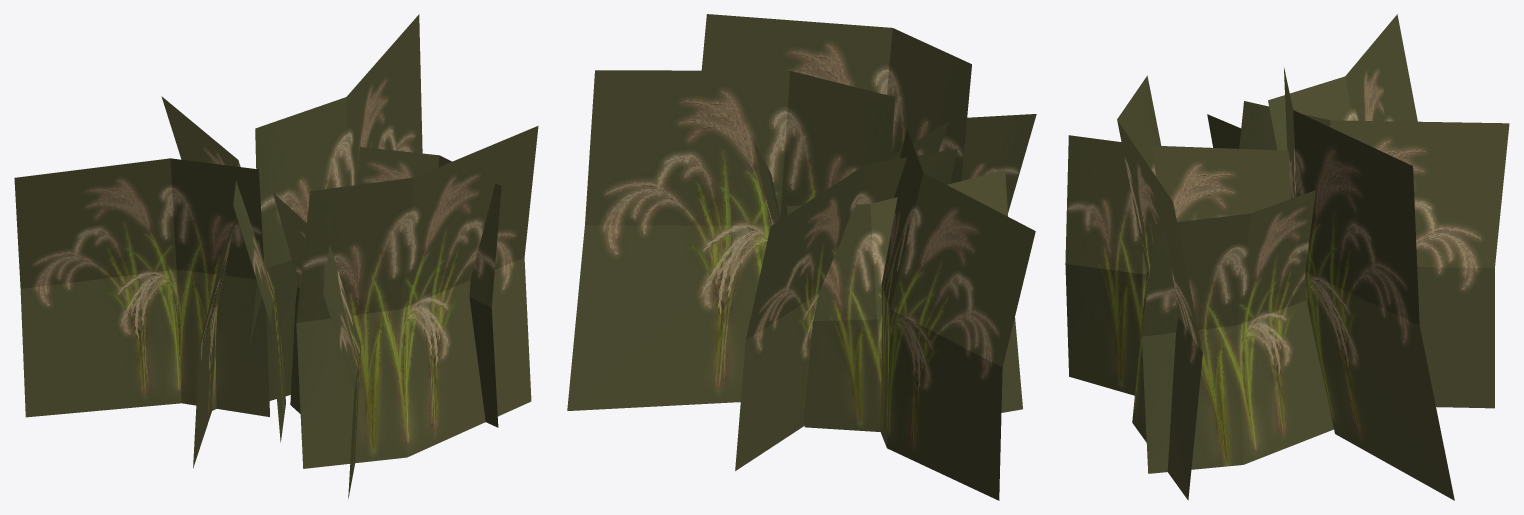
File: bg_anh_foliage_a_crops03_sm_ksy.FBX
The picture shows the model from 3 angles, left to right: view 1: azimuth 30°, elevation 25°; view 2: azimuth 150°, elevation 25°; view 3: azimuth 270°, elevation 25°; orthographic projection. The views are drawn at different scales.
Parts seen in each view (by area): view 1: bg_anh_foliage_a_crops03_sm_ksy; view 2: bg_anh_foliage_a_crops03_sm_ksy; view 3: bg_anh_foliage_a_crops03_sm_ksy.
Boxes of the visible parts, x1,y1,x2,y2 form: bg_anh_foliage_a_crops03_sm_ksy: (14,14,538,498); bg_anh_foliage_a_crops03_sm_ksy: (567,14,1036,500); bg_anh_foliage_a_crops03_sm_ksy: (1065,14,1509,500).
Size of the model in its own units: 175 by 124 by 151.
